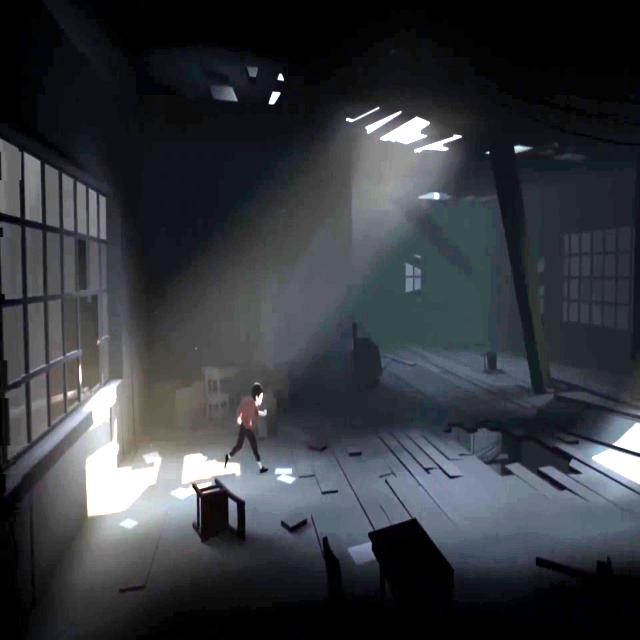boy: (227, 381, 267, 472)
